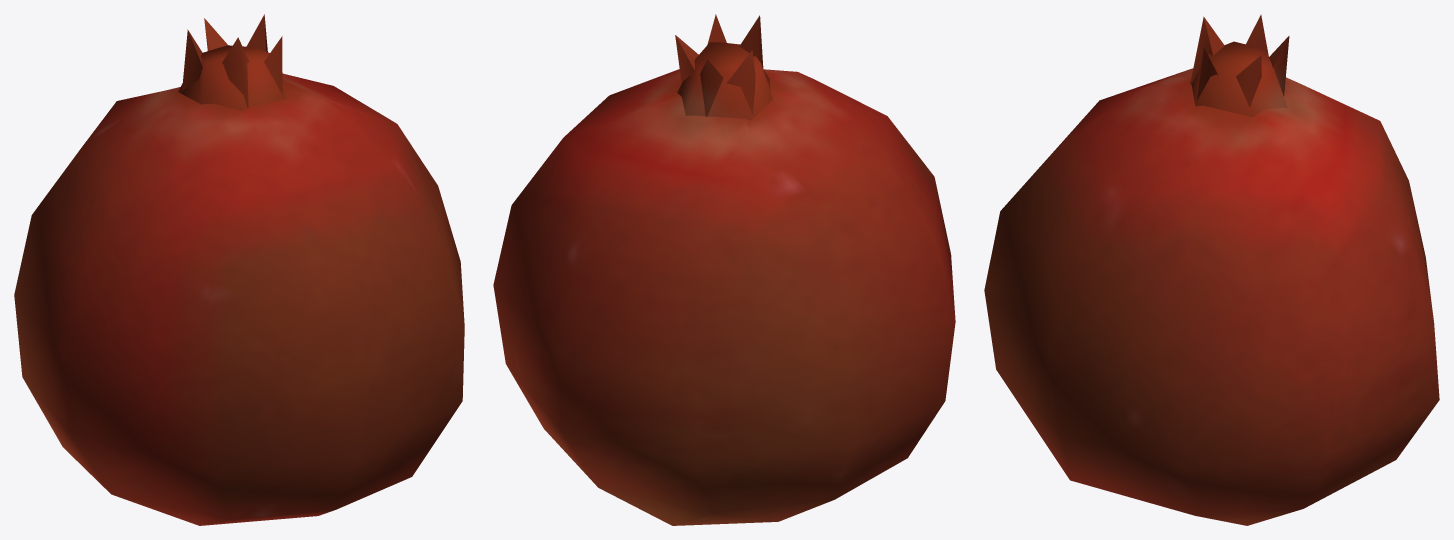
File: SM_SP_FruitsPome03.fbx
3 renders of one model, left to right at view 1: azimuth 30°, elevation 25°; view 2: azimuth 150°, elevation 25°; view 3: azimuth 270°, elevation 25°, orthographic.
Parts seen in each view (by area): view 1: SM_SP_FruitsPome03_LOD0; view 2: SM_SP_FruitsPome03_LOD0; view 3: SM_SP_FruitsPome03_LOD0.
Part boxes in pixels (x1,y1,x2,y2): SM_SP_FruitsPome03_LOD0: (14,14,464,525); SM_SP_FruitsPome03_LOD0: (493,14,955,525); SM_SP_FruitsPome03_LOD0: (984,14,1439,525).
Size of the model in its own units: 12.83 by 12.77 by 14.65.
Materials: 1 (1 with a texture image).
